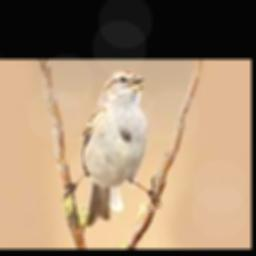Sparrow: (64, 70, 162, 226)
